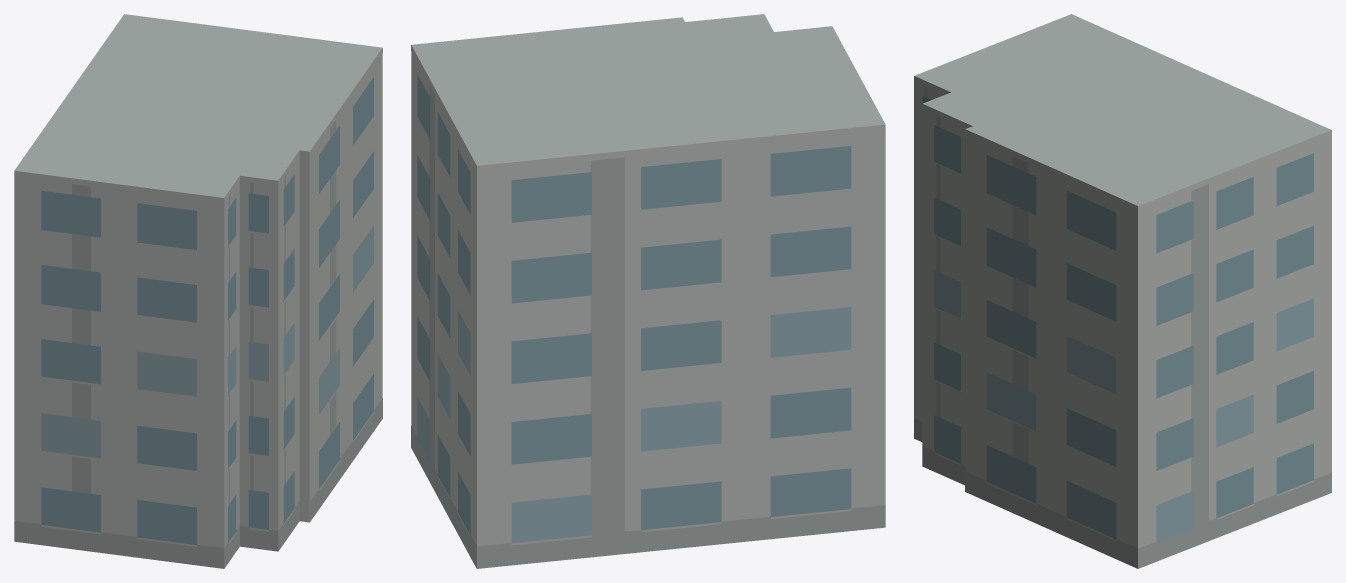
Rendered from survey-upis-32992299.glb.
3 renders of one model, left to right at view 1: azimuth 30°, elevation 25°; view 2: azimuth 150°, elevation 25°; view 3: azimuth 270°, elevation 25°, orthographic. The views are drawn at different scales.
Parts seen in each view (by area): view 1: survey-upis-32992299.tmp; view 2: survey-upis-32992299.tmp; view 3: survey-upis-32992299.tmp.
Boxes of the visible parts, x1,y1,x2,y2 form: survey-upis-32992299.tmp: (14,14,382,568); survey-upis-32992299.tmp: (411,14,885,568); survey-upis-32992299.tmp: (914,14,1331,568).
Bounding box in the file's own units: 17.39 × 15.3 × 15.97.
